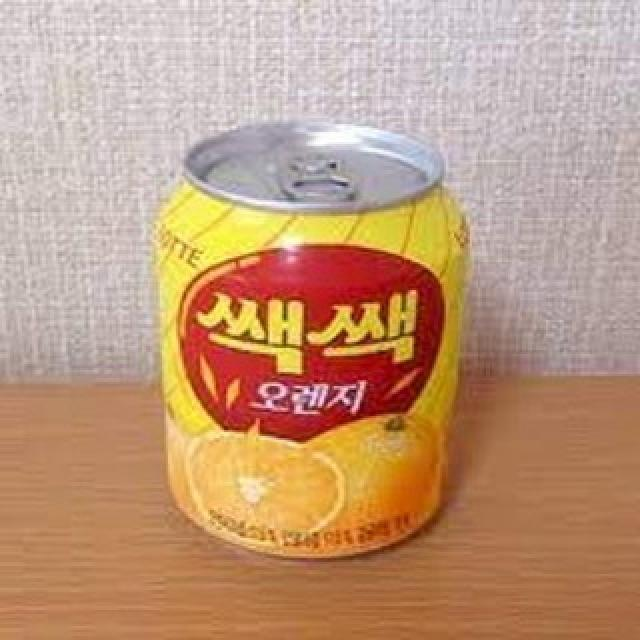Anorganik: (147, 117, 477, 562)
